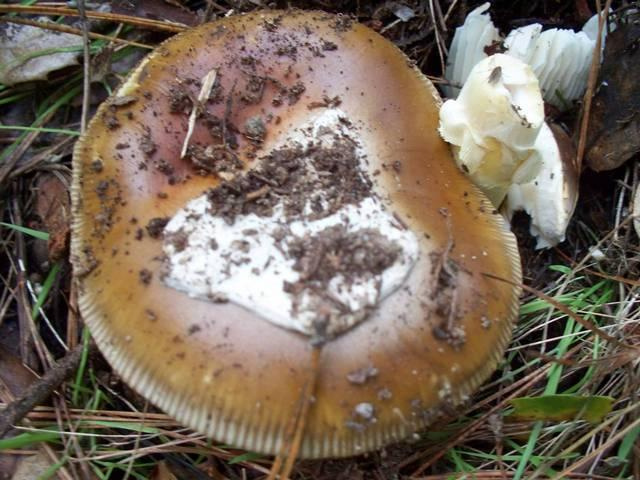edible_mushroom: (67, 6, 524, 461), (436, 51, 580, 250)
